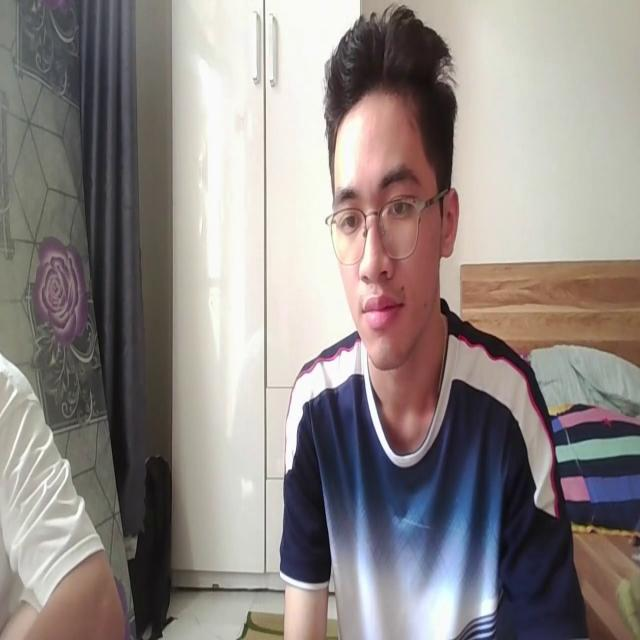student: (268, 8, 581, 640)
